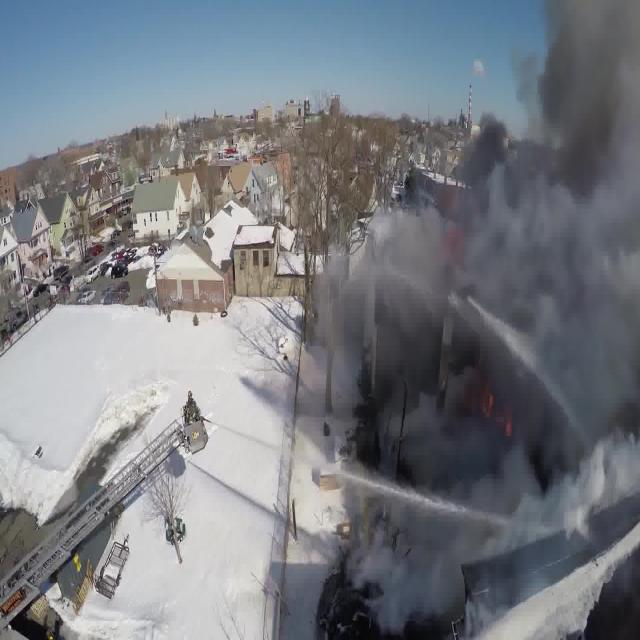smoke: (379, 205, 634, 483), (554, 0, 634, 183)
